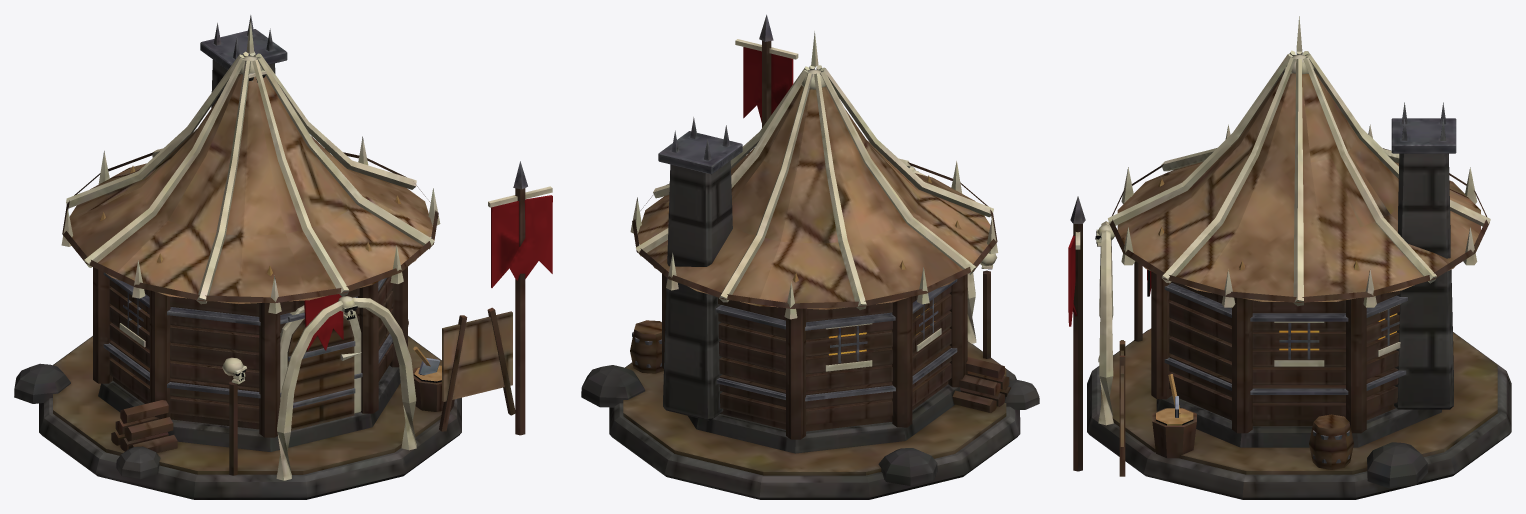
The model's file is orc_house.glb.
The picture shows the model from 3 angles, left to right: view 1: azimuth 30°, elevation 25°; view 2: azimuth 150°, elevation 25°; view 3: azimuth 270°, elevation 25°; orthographic projection. The views are drawn at different scales.
Visible parts, largest first — view 1: Static_Mesh, Anim_Banners; view 2: Static_Mesh, Anim_Banners; view 3: Static_Mesh, Anim_Banners.
Boxes of the visible parts, x1,y1,x2,y2 form: Static_Mesh: (14, 15, 552, 499); Anim_Banners: (304, 195, 552, 350); Static_Mesh: (581, 14, 1039, 499); Anim_Banners: (743, 47, 793, 122); Static_Mesh: (1070, 16, 1511, 499); Anim_Banners: (1068, 235, 1151, 326).
Bounding box in the file's own units: 5.39 × 5.45 × 5.51.
Materials: 2 (2 with a texture image).
